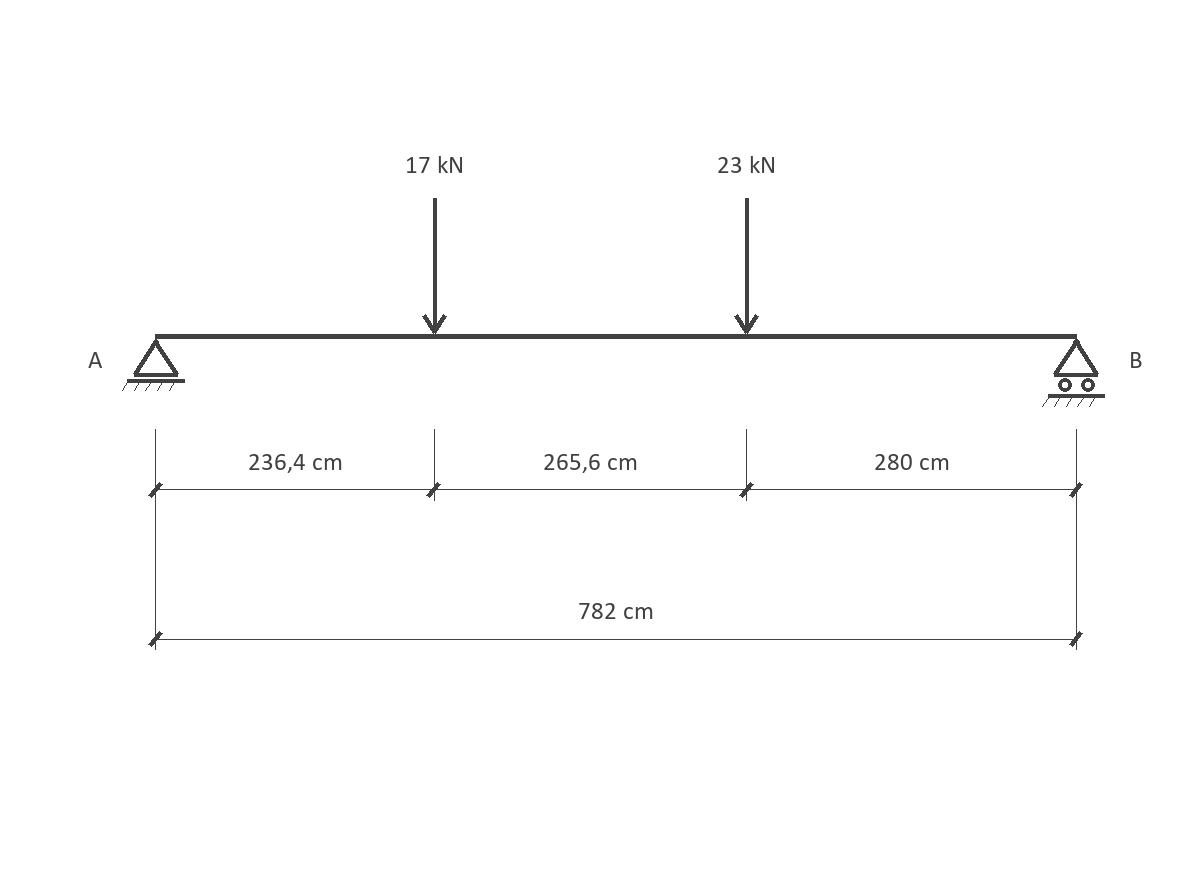pin_support: (122, 339, 185, 391)
point_load: (422, 198, 447, 334), (734, 198, 759, 334)
roller_support: (1042, 339, 1105, 407)
